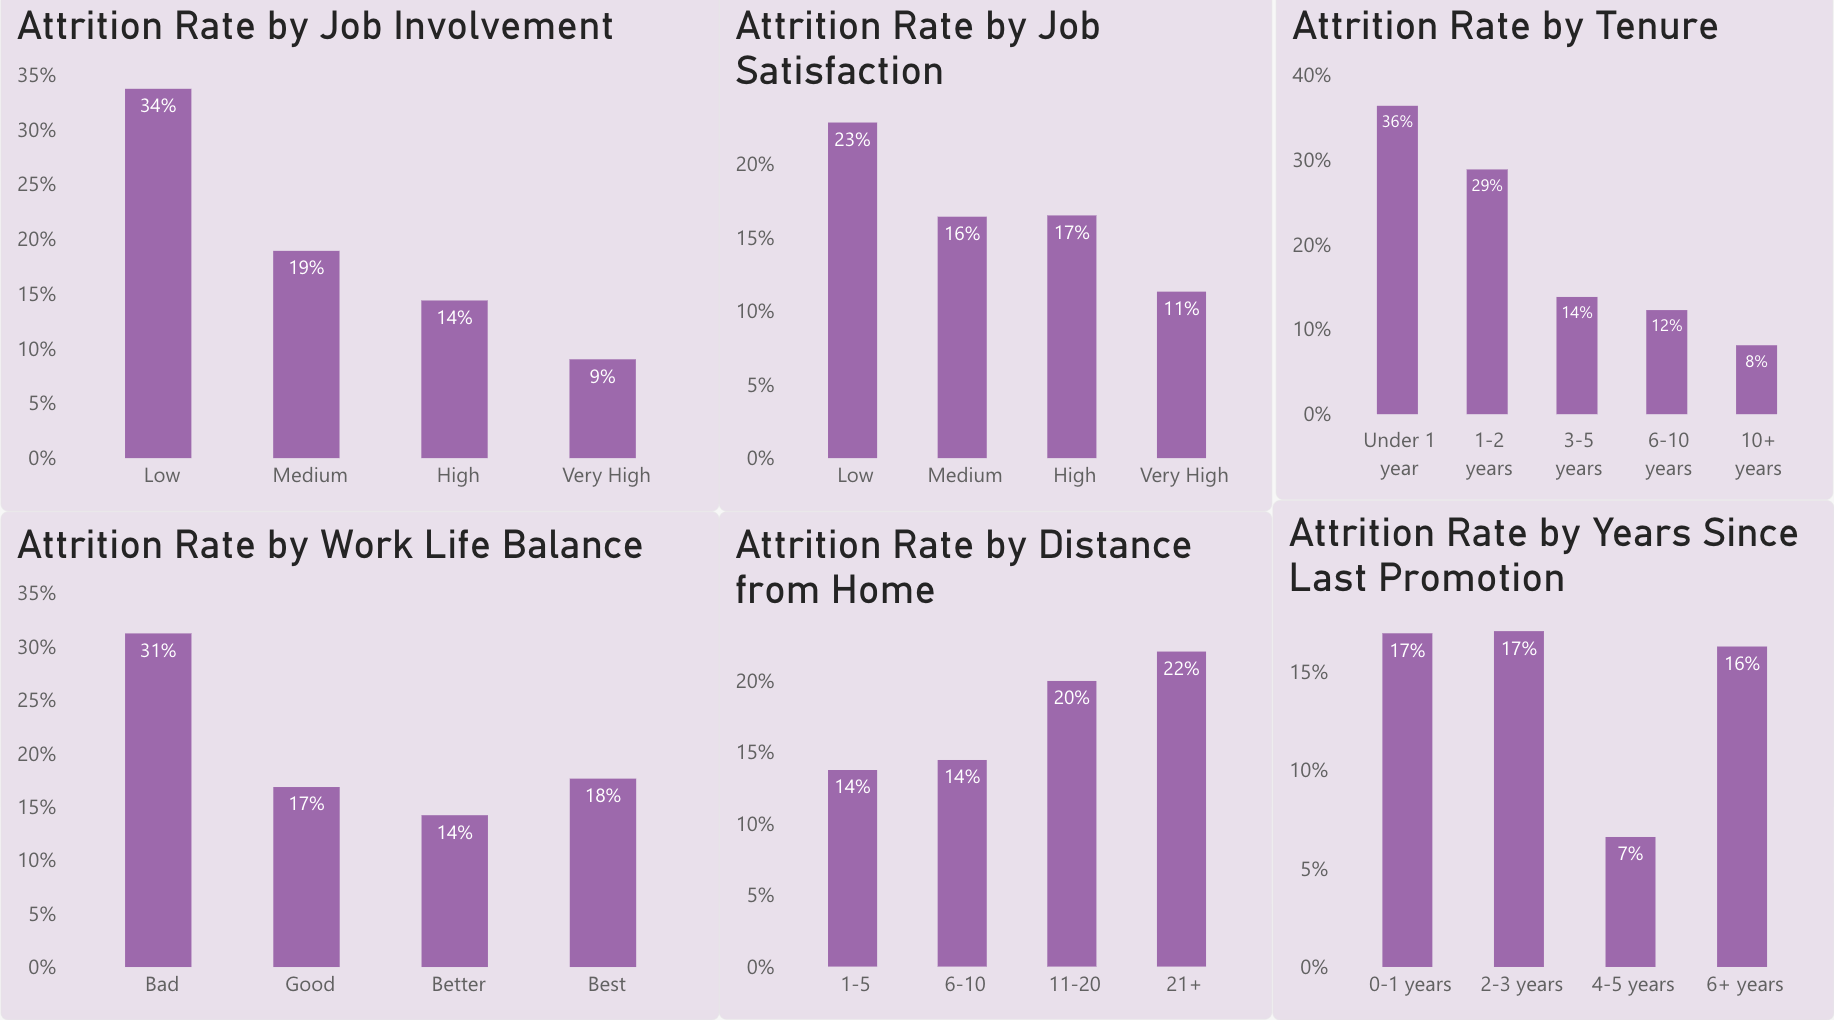

This screenshot's page, from the dashboard's own definition file:
{"tool":"powerbi","page":{"name":"Attrition Drivers","canvas":[1920,1080],"ordinal":1},"visuals":[{"type":"clusteredColumnChart","title":"Attrition Rate by Job Involvement","fields":{"Category":["employee_attrition_cleaned.JobInvolvementLabel"],"Y":["employee_attrition_cleaned.Attrition Rate Numeric"]},"box":[10.3,0,748.6,539.9],"z":0},{"type":"clusteredColumnChart","title":"Attrition Rate by Job Satisfaction","fields":{"Category":["employee_attrition_cleaned.JobSatisfactionLabel"],"Y":["employee_attrition_cleaned.Attrition Rate Numeric"]},"box":[758.9,0,576.1,539.9],"z":1000},{"type":"clusteredColumnChart","title":"Attrition Rate by Work Life Balance","fields":{"Category":["employee_attrition_cleaned.WorkLifeBalanceLabel"],"Y":["employee_attrition_cleaned.Attrition Rate Numeric"]},"box":[10.3,539.9,749,530],"z":1001},{"type":"clusteredColumnChart","title":"Attrition Rate by Distance from Home","fields":{"Category":["employee_attrition_cleaned.DistanceBand"],"Y":["employee_attrition_cleaned.Attrition Rate Numeric"]},"box":[758.9,539.9,576.1,529.5],"z":1002},{"type":"clusteredColumnChart","title":"Attrition Rate by Tenure","fields":{"Category":["employee_attrition_cleaned.TenureBand"],"Y":["employee_attrition_cleaned.Attrition Rate Numeric"]},"box":[1338.1,0,580.8,528.1],"z":1003},{"type":"clusteredColumnChart","title":"Attrition Rate by Years Since Last Promotion","fields":{"Category":["employee_attrition_cleaned.PromotionWaitBand"],"Y":["employee_attrition_cleaned.Attrition Rate Numeric"]},"box":[1335.1,527.8,584.7,541.6],"z":1004}]}

Visuals, with their boxes in screenshot pixels (x1, y1, x2, y2), scaled from the page's 1920x1080 canvas onto the 1834x1020 screenshot:
"Attrition Rate by Job Involvement" clusteredColumnChart: {"left": 10, "top": 0, "right": 725, "bottom": 510}
"Attrition Rate by Job Satisfaction" clusteredColumnChart: {"left": 725, "top": 0, "right": 1275, "bottom": 510}
"Attrition Rate by Work Life Balance" clusteredColumnChart: {"left": 10, "top": 510, "right": 725, "bottom": 1010}
"Attrition Rate by Distance from Home" clusteredColumnChart: {"left": 725, "top": 510, "right": 1275, "bottom": 1010}
"Attrition Rate by Tenure" clusteredColumnChart: {"left": 1278, "top": 0, "right": 1833, "bottom": 499}
"Attrition Rate by Years Since Last Promotion" clusteredColumnChart: {"left": 1275, "top": 498, "right": 1833, "bottom": 1010}
